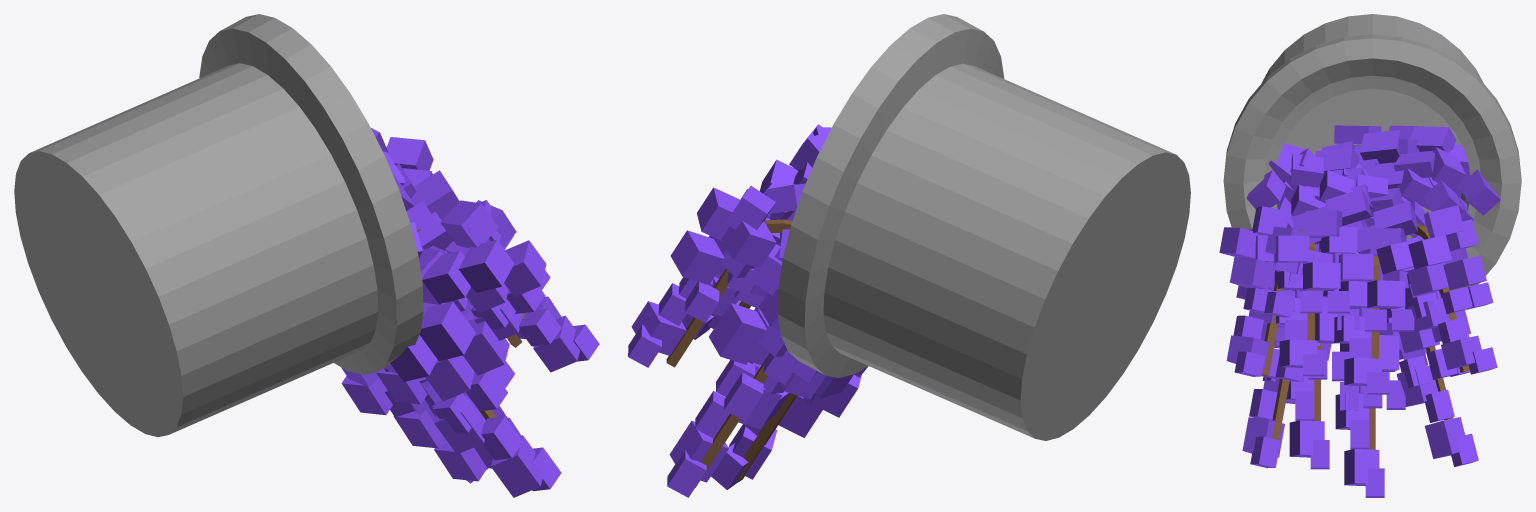
Rendered from LavenderFlowers.fbx.
3 views of the same model, side by side, from view 1: azimuth 30°, elevation 25°; view 2: azimuth 150°, elevation 25°; view 3: azimuth 270°, elevation 25° (orthographic). The views are drawn at different scales.
Parts seen in each view (by area): view 1: Cylinder, Cube.062, Cube.173, Cube.167, Cube.069, Cube.175, Cube.171, Cube.064, Cube.070, Cube.166, Cube.079, Cube.010 (+16 smaller); view 2: Cylinder, Cube.055, Cube.180, Cube.181, Cube.178, Cube.185, Cube.050, Cube.041, Cube.184, Cube.193, Cube.047, Cube.016 (+16 smaller); view 3: Cylinder, Cube.050, Cube.133, Cube.171, Cube.010, Cube.029, Cube.220, Cube.178, Cube.211, Cube.180, Cube.124, Cube.127 (+79 smaller).
Part boxes in pixels (x1,y1,x2,y2): Cylinder: (14, 14, 423, 437); Cube.062: (419, 301, 475, 361); Cube.173: (458, 239, 514, 292); Cube.167: (440, 200, 498, 247); Cube.069: (491, 435, 543, 497); Cube.175: (422, 250, 470, 303); Cube.171: (504, 240, 546, 296); Cube.064: (463, 318, 509, 375); Cube.070: (425, 355, 474, 401); Cube.166: (533, 315, 579, 372); Cube.079: (481, 416, 523, 459); Cube.010: (434, 439, 487, 481); Cylinder: (778, 14, 1190, 440); Cube.055: (709, 303, 766, 364); Cube.180: (670, 230, 724, 284); Cube.181: (721, 220, 776, 268); Cube.178: (697, 187, 740, 240); Cube.185: (631, 301, 686, 355); Cube.050: (669, 421, 728, 482); Cube.041: (724, 372, 763, 421); Cube.184: (726, 186, 775, 229); Cube.193: (666, 219, 792, 367); Cube.047: (667, 450, 706, 497); Cube.016: (778, 395, 822, 437); Cylinder: (1223, 14, 1521, 290); Cube.050: (1425, 417, 1464, 458); Cube.133: (1360, 130, 1404, 163); Cube.171: (1230, 257, 1272, 289); Cube.010: (1344, 449, 1379, 486); Cube.029: (1289, 420, 1324, 457); Cube.220: (1367, 280, 1405, 308); Cube.178: (1408, 235, 1451, 269); Cube.211: (1303, 262, 1340, 290); Cube.180: (1443, 255, 1486, 289); Cube.124: (1325, 189, 1371, 225); Cube.127: (1373, 201, 1417, 235).
Bounding box in the file's own units: 4152 × 4348 × 3033.
